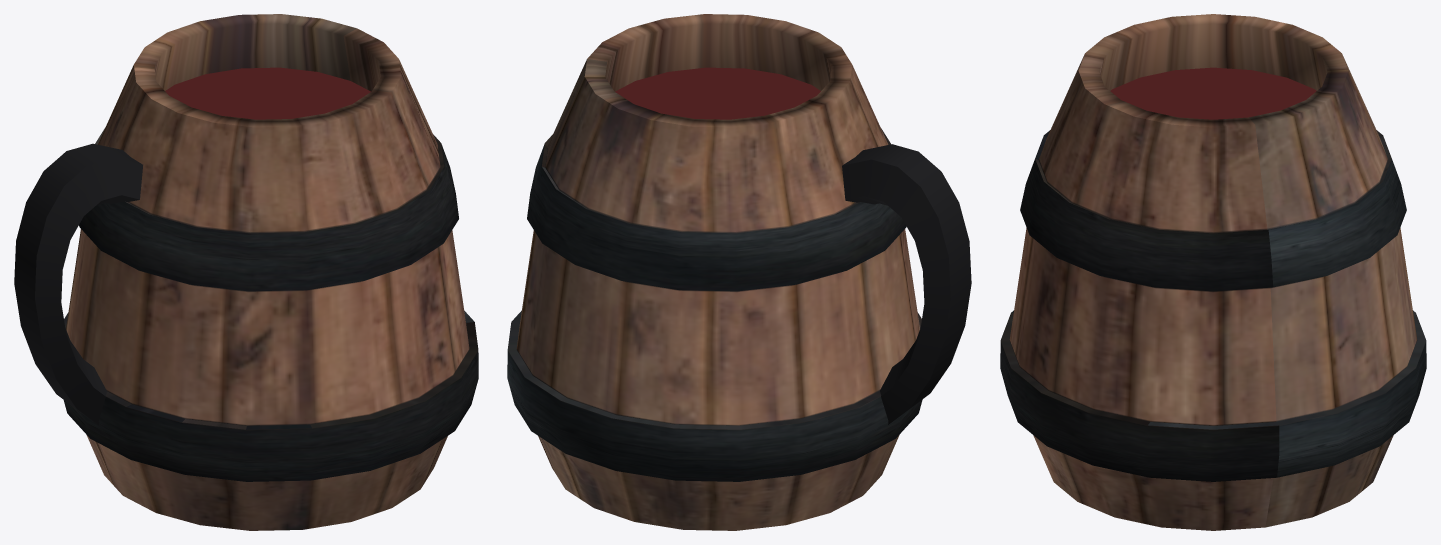
Rendered from drinkingvesselforunity.fbx.
The picture shows the model from 3 angles, left to right: view 1: azimuth 30°, elevation 25°; view 2: azimuth 150°, elevation 25°; view 3: azimuth 270°, elevation 25°; orthographic projection.
Parts seen in each view (by area): view 1: pDisc2; view 2: pDisc2; view 3: pDisc2.
Boxes of the visible parts, x1=… form: pDisc2: x1=14, y1=14, x2=478, y2=530; pDisc2: x1=507, y1=14, x2=971, y2=530; pDisc2: x1=1000, y1=14, x2=1426, y2=530.
Size of the model in its own units: 18.84 by 16.45 by 16.31.
3 materials, 1 textured.
